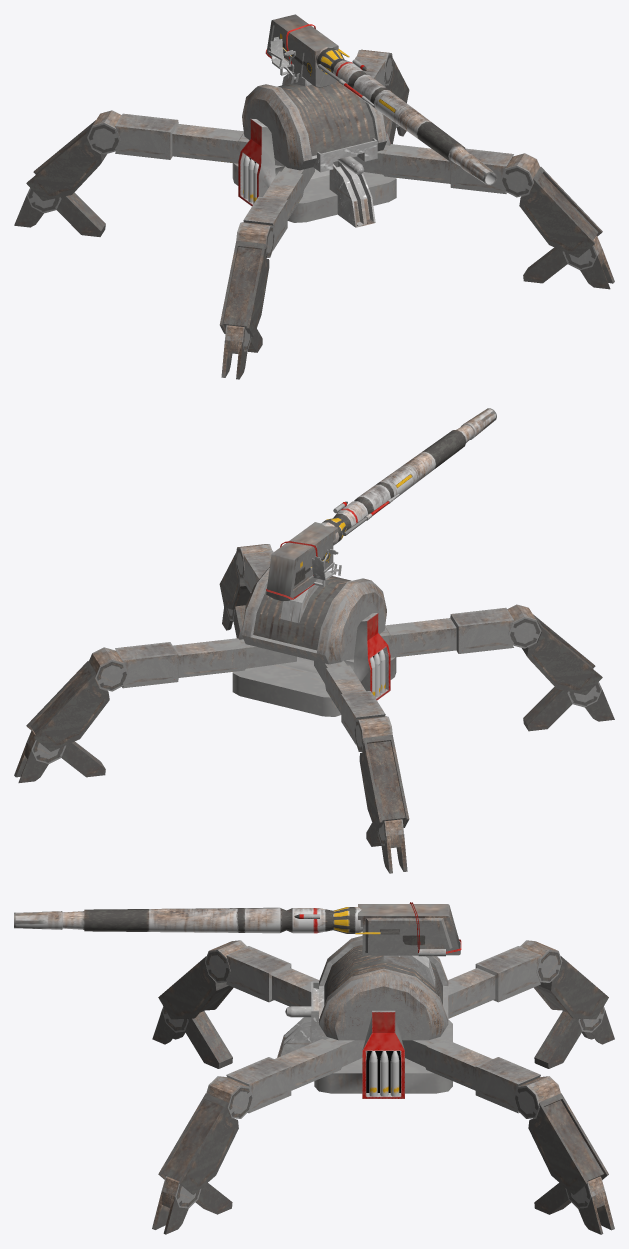
Rendered from cannon.glb.
The picture shows the model from 3 angles, top to bottom: view 1: azimuth 30°, elevation 25°; view 2: azimuth 150°, elevation 25°; view 3: azimuth 270°, elevation 25°; orthographic projection. The views are drawn at different scales.
Visible parts, largest first — view 1: Cylinder, Cube, Cube.009, canon, Object012_Material #139_0, Cube.008, Object009_Material #139_0, Object017_Material #139_0, Cylinder.002, Cube.007, feet004, feet003 (+6 smaller); view 2: Cylinder, Cube, Cube.007, Cube.006, canon, Object003_Material #139_0, Object017_Material #139_0, Cylinder.002, Object009_Material #139_0, Cube.009, feet002, feet1 (+8 smaller); view 3: Cylinder, canon, Cube, Cylinder.002, Object003_Material #139_0, Object012_Material #139_0, Cube.008, Cube.006, Cube.009, Cube.007, Object017_Material #139_0, Object009_Material #139_0 (+13 smaller).
Boxes of the visible parts, x1,y1,x2,y2 form: Cylinder: (242,80,386,172); Cube: (232,119,396,227); Cube.009: (115,113,243,163); canon: (315,47,497,185); Object012_Material #139_0: (519,166,602,257); Cube.008: (375,144,513,193); Object009_Material #139_0: (219,240,269,336); Object017_Material #139_0: (26,120,106,200); Cylinder.002: (266,14,338,87); Cube.007: (243,171,305,250); feet004: (14,192,105,236); feet003: (523,247,614,289); Cylinder: (242,567,386,664); Cube: (232,592,396,716); Cube.007: (385,607,513,657); Cube.006: (115,638,253,688); canon: (321,408,496,545); Object003_Material #139_0: (26,661,109,751); Object017_Material #139_0: (359,735,409,830); Cylinder.002: (266,522,337,601); Object009_Material #139_0: (522,614,602,694); Cube.009: (323,665,385,745); feet002: (523,686,614,731); feet1: (14,741,105,782); Cylinder: (311,935,448,1040); canon: (14,907,362,933); Cube: (277,1010,452,1098); Cylinder.002: (358,904,460,955); Object003_Material #139_0: (528,1093,608,1194); Object012_Material #139_0: (158,1093,238,1194); Cube.008: (226,1039,347,1113); Cube.006: (419,1039,540,1113); Cube.009: (448,946,540,1018); Cube.007: (226,946,319,1006); Object017_Material #139_0: (533,956,608,1019); Object009_Material #139_0: (158,956,233,1019).
Bounding box in the file's own units: 549 × 290 × 692.
1 material, 1 textured.
